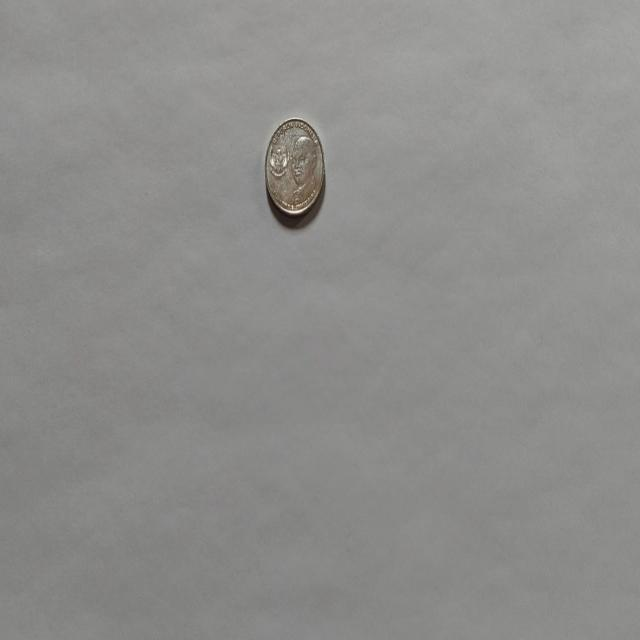lima ratus rupiah: (264, 115, 326, 218)
